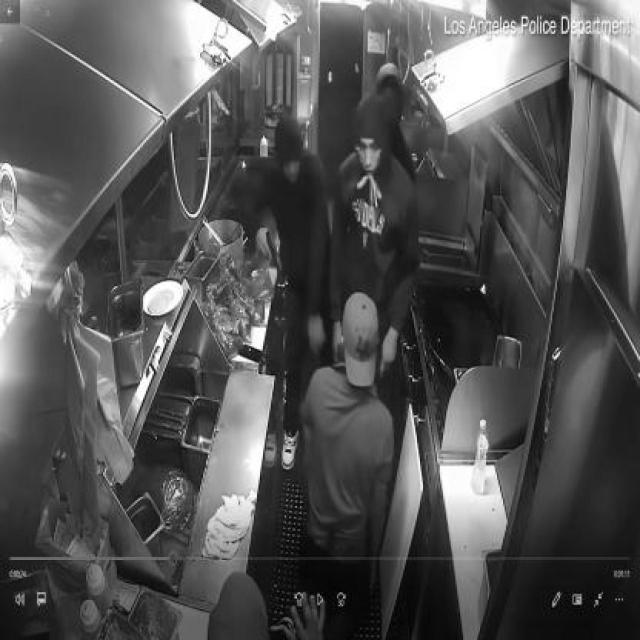weapon: (265, 230, 283, 271)
